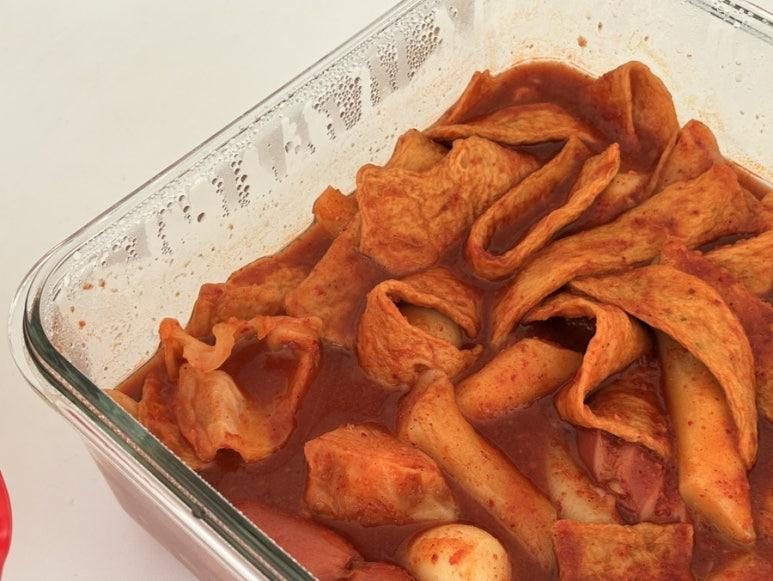Lunch Box: (11, 0, 772, 580)
